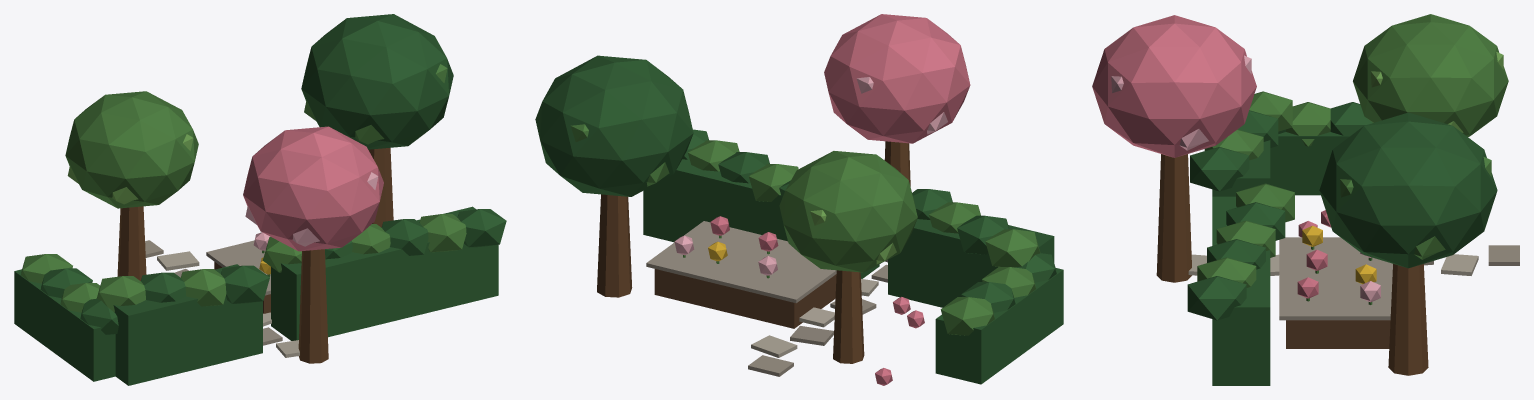
The model's file is Decor_DogeAltar_Garden.fbx.
The picture shows the model from 3 angles, left to right: view 1: azimuth 30°, elevation 25°; view 2: azimuth 150°, elevation 25°; view 3: azimuth 270°, elevation 25°; orthographic projection. The views are drawn at different scales.
Parts seen in each view (by area): view 1: Garden_Body; view 2: Garden_Body; view 3: Garden_Body.
Part boxes in pixels (<box>): Garden_Body: <box>14,14,506,385</box>; Garden_Body: <box>535,14,1063,385</box>; Garden_Body: <box>1092,14,1519,385</box>.
Size of the model in its own units: 25.3 by 12.8 by 19.7.
